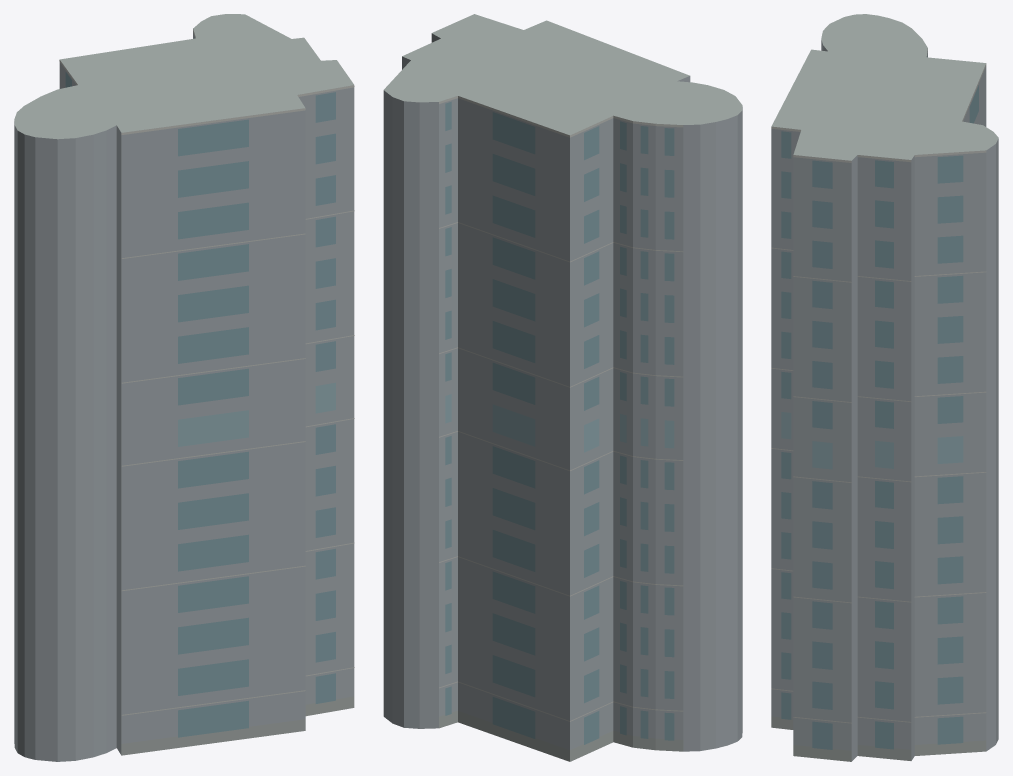
File: residential-3a7346ff-979f-40dd-b7f9-c73bf0ddf611.glb
The picture shows the model from 3 angles, left to right: view 1: azimuth 30°, elevation 25°; view 2: azimuth 150°, elevation 25°; view 3: azimuth 270°, elevation 25°; orthographic projection. The views are drawn at different scales.
Parts seen in each view (by area): view 1: residential-3a7346ff-979f-40dd-b7f9-c73bf0ddf611.tmp; view 2: residential-3a7346ff-979f-40dd-b7f9-c73bf0ddf611.tmp; view 3: residential-3a7346ff-979f-40dd-b7f9-c73bf0ddf611.tmp.
Part boxes in pixels (x1=…): residential-3a7346ff-979f-40dd-b7f9-c73bf0ddf611.tmp: x1=14, y1=14, x2=354, y2=761; residential-3a7346ff-979f-40dd-b7f9-c73bf0ddf611.tmp: x1=383, y1=14, x2=742, y2=761; residential-3a7346ff-979f-40dd-b7f9-c73bf0ddf611.tmp: x1=771, y1=14, x2=998, y2=761.
Bounding box in the file's own units: 34.06 × 65 × 22.3.
